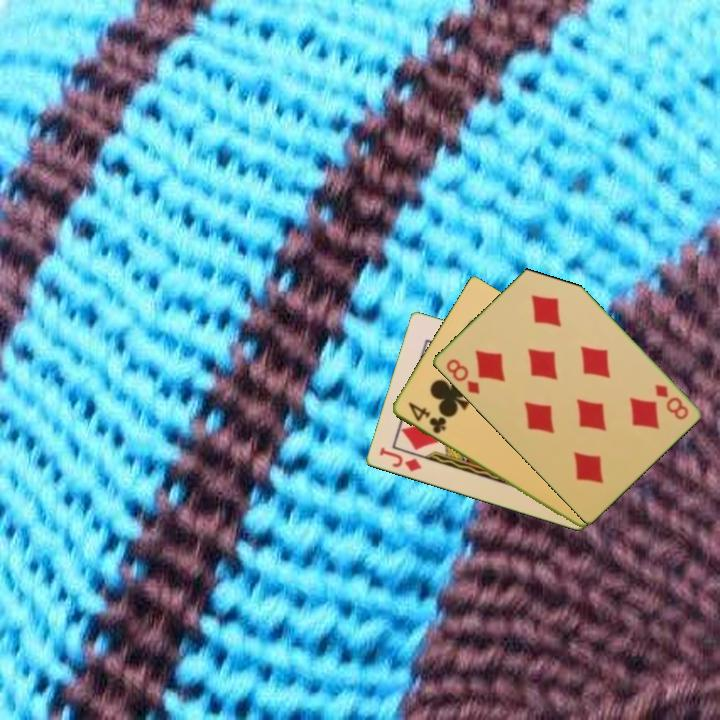4c: (404, 399, 449, 437)
8d: (651, 380, 691, 423), (442, 355, 482, 397)
Jd: (375, 444, 424, 475)
